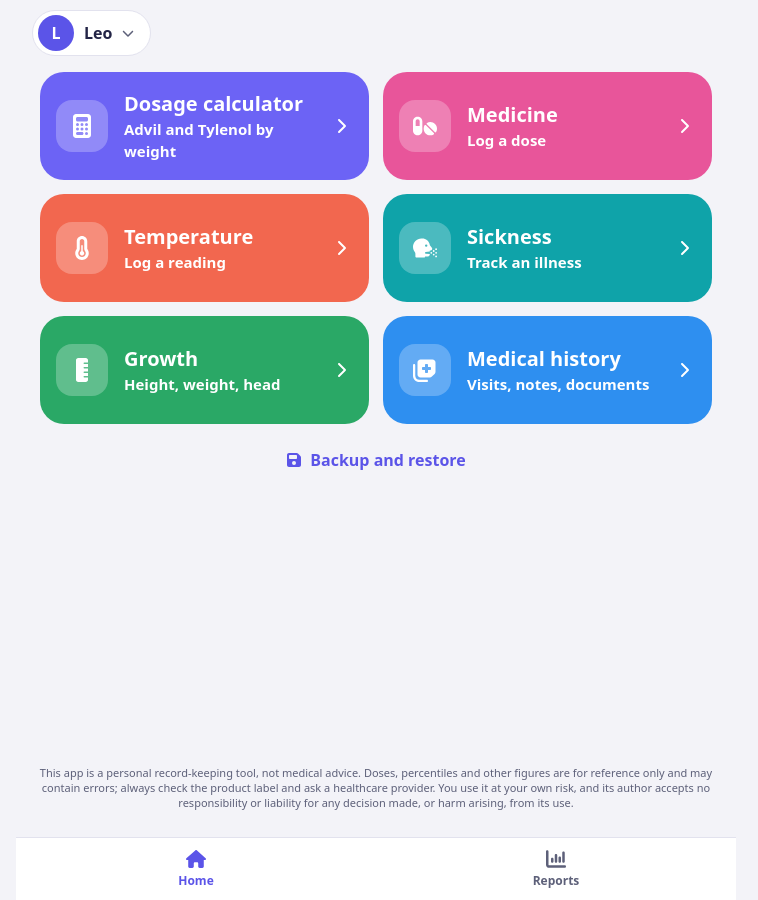
App › does not reopen that edit when the log page is opened again from Home
The image size is (758, 900).
Click the button "Reports". click: [556, 869]
box: x1=376 y1=838 x2=736 y2=899
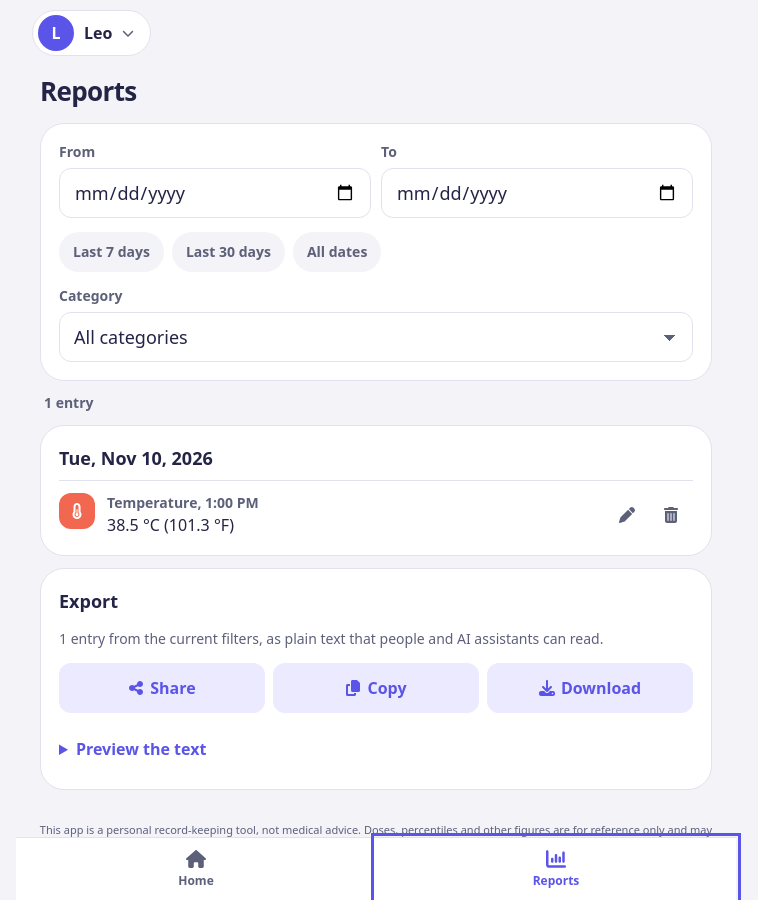
Click the button named "Edit entry". click: [627, 515]
box: x1=605 y1=493 x2=649 y2=537
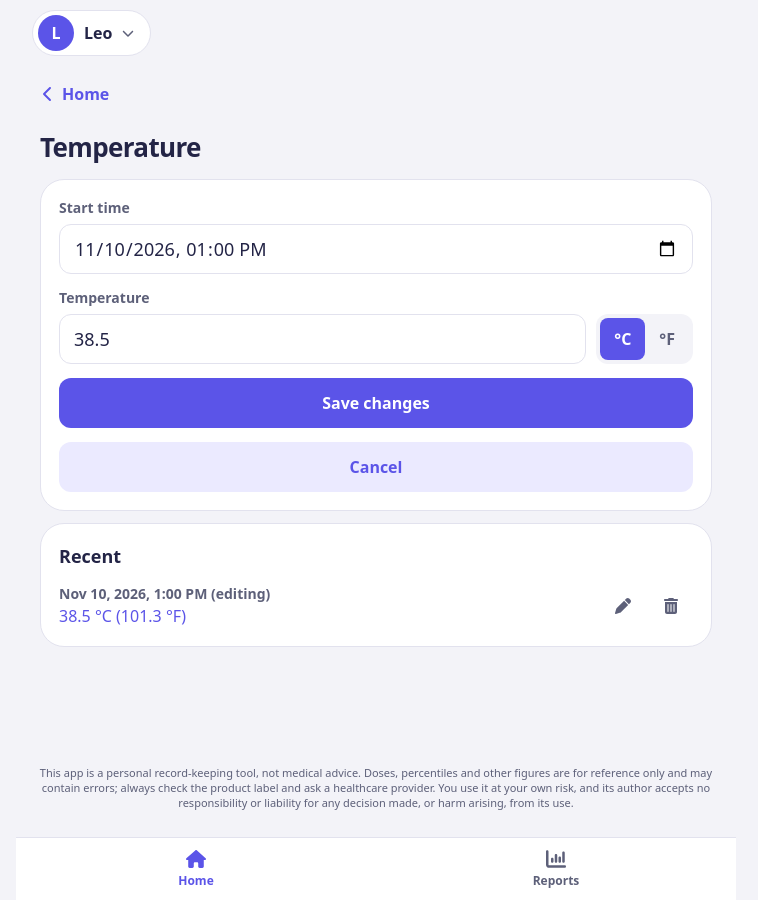
Expected: the form named "Edit temperature" is shown, x1=40 y1=179 x2=712 y2=511
Click the 1st button "Home". click: [79, 94]
box: x1=40 y1=72 x2=117 y2=116
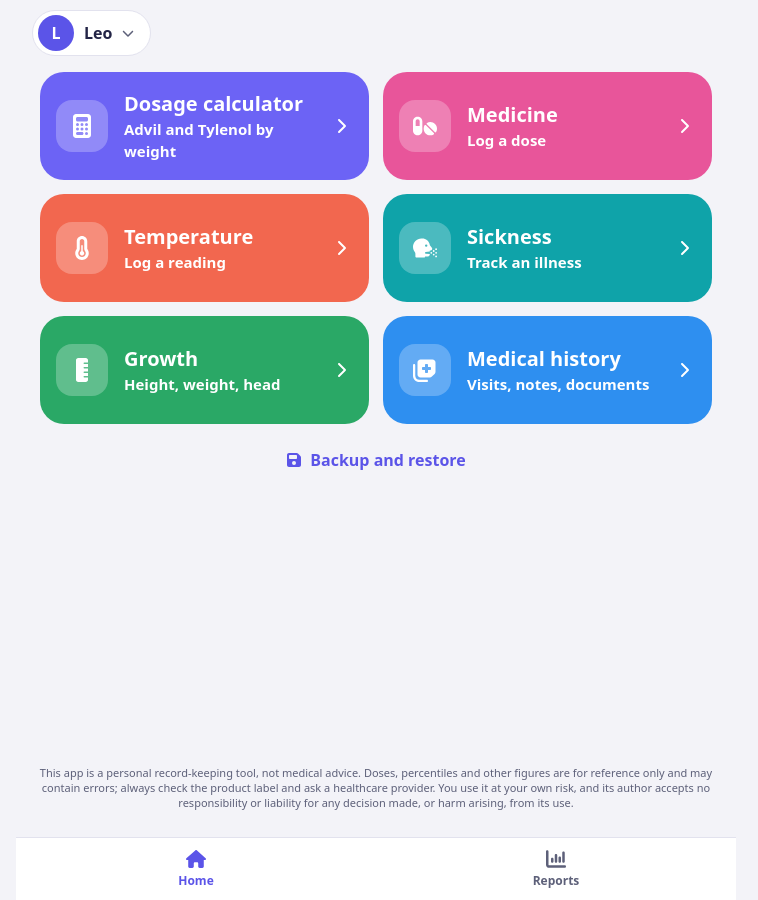
Click the button "Temperature Log a reading". click: [204, 248]
box: x1=40 y1=194 x2=369 y2=302
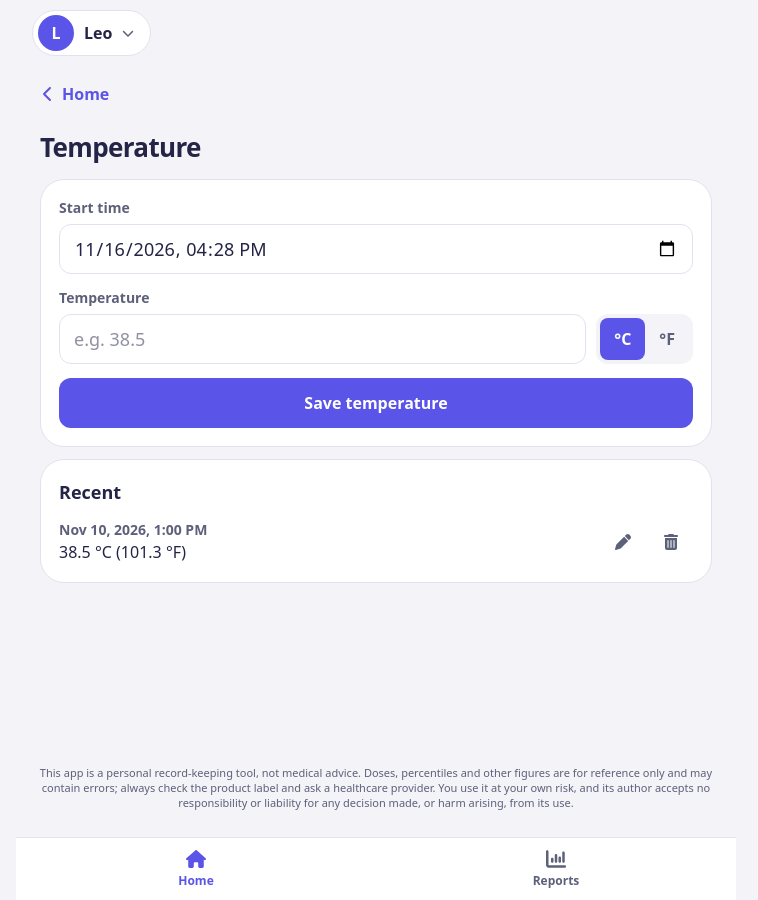
Expected: the form named "Log temperature" is shown, x1=40 y1=179 x2=712 y2=447
